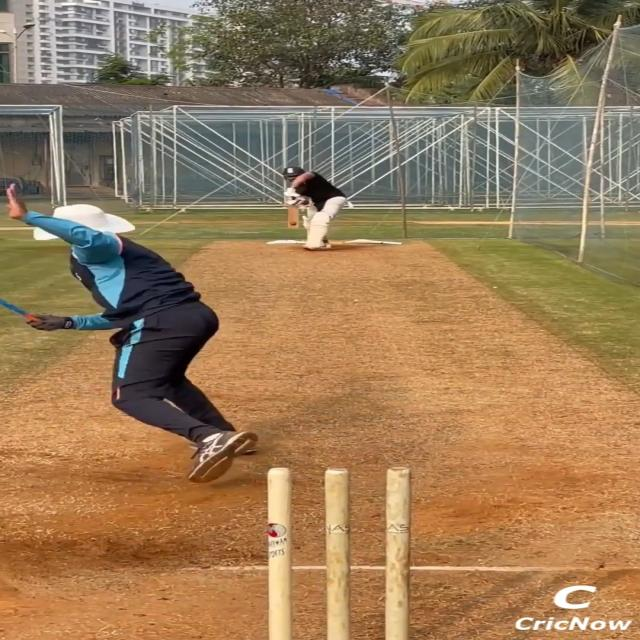stump: (252, 461, 423, 640)
